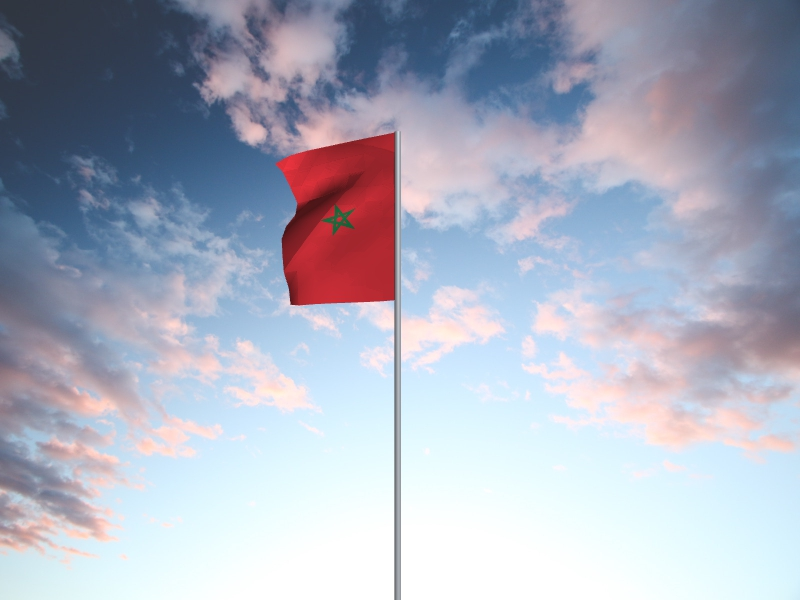ma: (275, 133, 395, 307)
